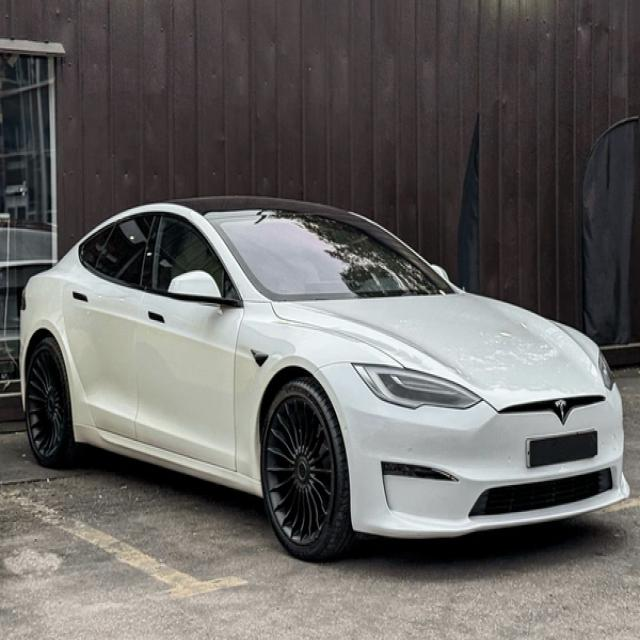tesla: (554, 396, 569, 421)
